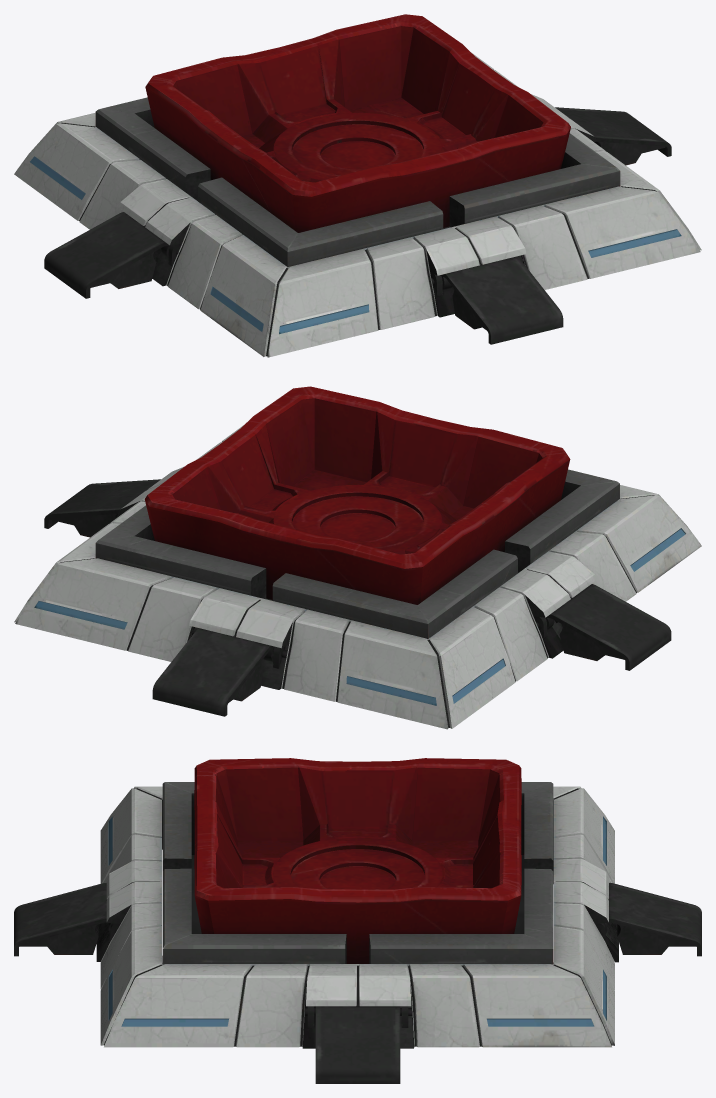
The model's file is portal_2_-_cube_button.glb.
3 renders of one model, top to bottom at view 1: azimuth 30°, elevation 25°; view 2: azimuth 150°, elevation 25°; view 3: azimuth 270°, elevation 25°, orthographic.
Visible parts, largest first — view 1: Object_2; view 2: Object_2; view 3: Object_2.
Part boxes in pixels (x1,y1,x2,y2): Object_2: (14,14,701,357); Object_2: (14,386,701,729); Object_2: (14,758,701,1083).
Size of the model in its own units: 104 by 18.78 by 104.
1 material, 1 textured.
